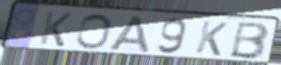9: (156, 17, 188, 55)
A: (107, 15, 152, 54)
B: (227, 21, 271, 61)
K: (193, 19, 230, 57), (37, 10, 74, 48)
O: (74, 13, 113, 51)
